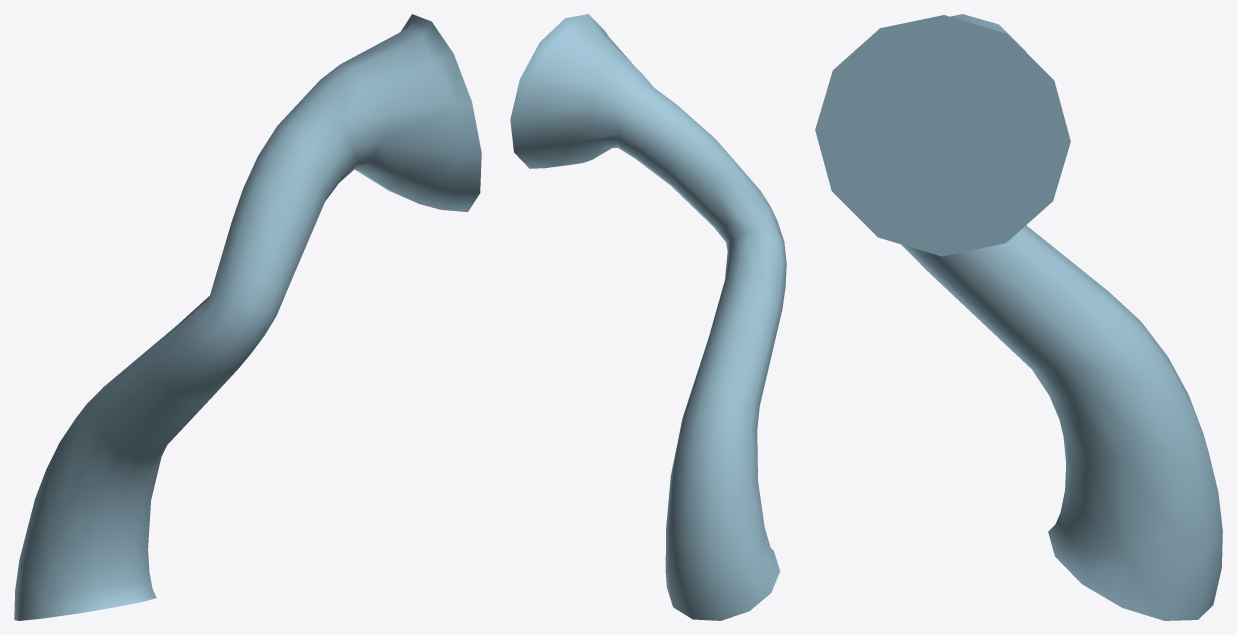
File: articulacoes-posterior-cruciate-ligament-r.glb
The picture shows the model from 3 angles, left to right: view 1: azimuth 30°, elevation 25°; view 2: azimuth 150°, elevation 25°; view 3: azimuth 270°, elevation 25°; orthographic projection. The views are drawn at different scales.
Parts seen in each view (by area): view 1: Posterior cruciate ligament.r; view 2: Posterior cruciate ligament.r; view 3: Posterior cruciate ligament.r.
Boxes of the visible parts, left/top/right/bottom form: Posterior cruciate ligament.r: left=14, top=14, right=481, bottom=620; Posterior cruciate ligament.r: left=510, top=14, right=786, bottom=620; Posterior cruciate ligament.r: left=815, top=14, right=1222, bottom=620.
Bounding box in the file's own units: 0.0233 × 0.0379 × 0.0186.
